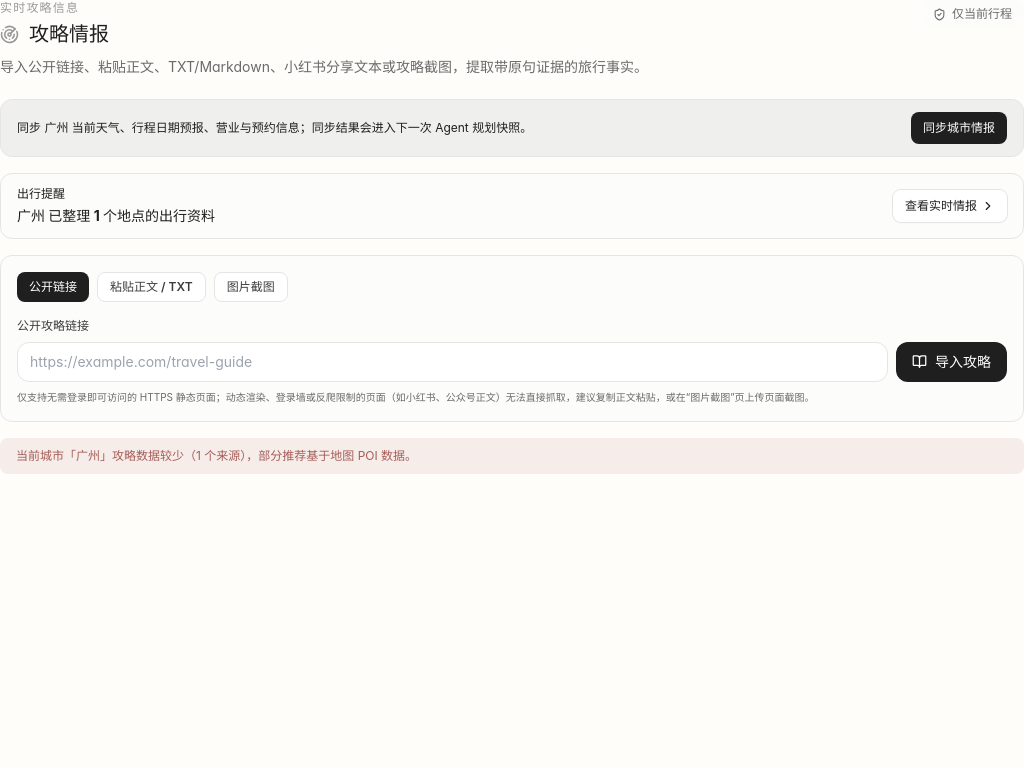
adds every itinerary place to the city intelligence drawer
Step 1. Click the button "查看实时情报" → (950, 206), box [893, 190, 1007, 222]
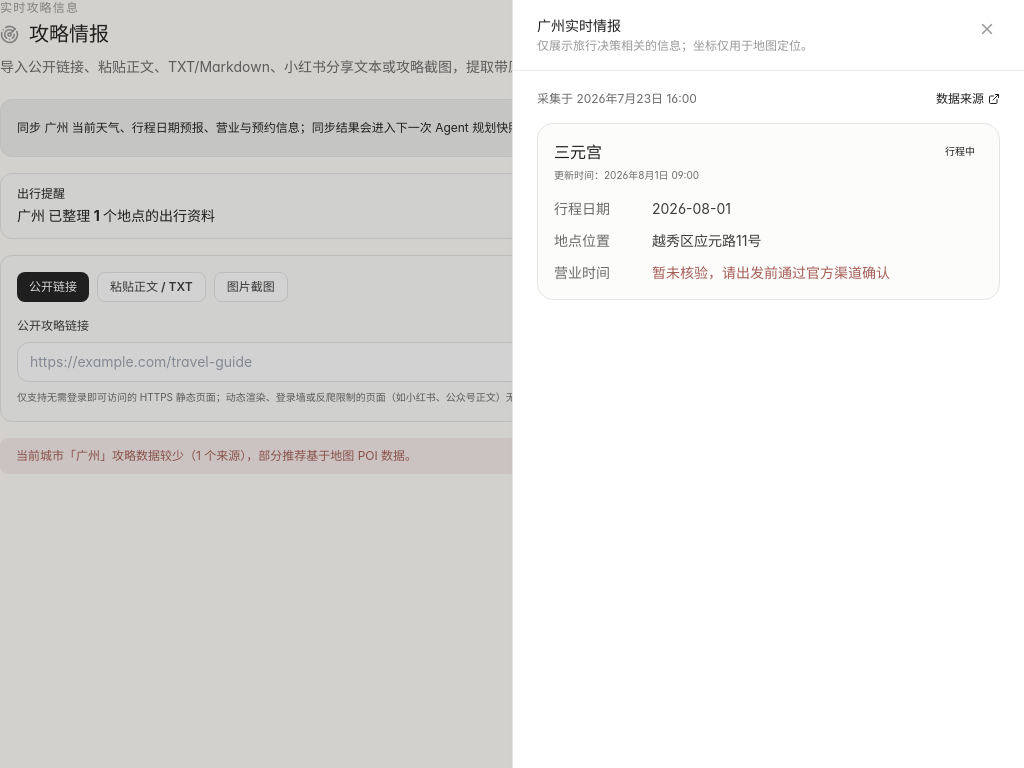
Expected: the text "行程中" is shown, [937, 140, 983, 163]
Expected: the text "越秀区应元路11号" is shown, [652, 232, 761, 249]
